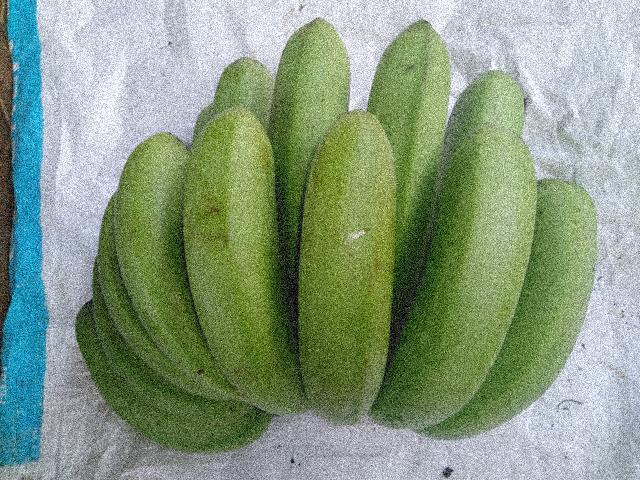unripe: (378, 123, 526, 419), (279, 90, 396, 441), (453, 161, 603, 431), (173, 105, 302, 399), (112, 121, 206, 389), (269, 14, 360, 136), (387, 12, 461, 122)
